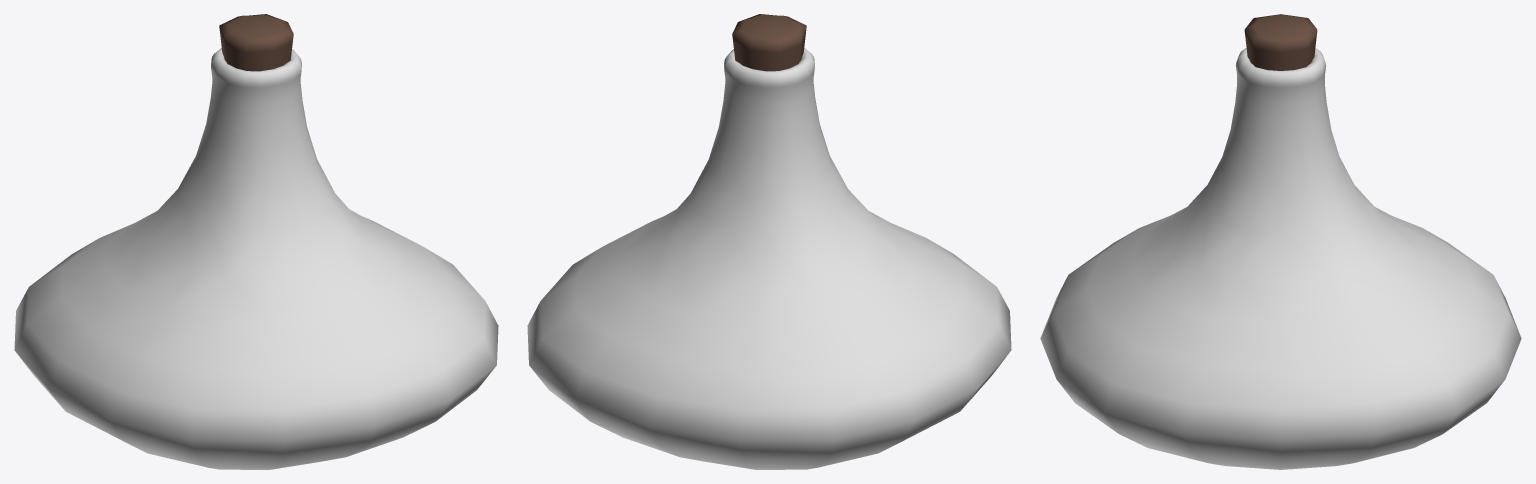
The model's file is potion8_empty.glb.
The picture shows the model from 3 angles, left to right: view 1: azimuth 30°, elevation 25°; view 2: azimuth 150°, elevation 25°; view 3: azimuth 270°, elevation 25°; orthographic projection.
Visible parts, largest first — view 1: Potion8_Empty; view 2: Potion8_Empty; view 3: Potion8_Empty.
Boxes of the visible parts, x1,y1,x2,y2 form: Potion8_Empty: (14,14,498,469); Potion8_Empty: (527,14,1011,469); Potion8_Empty: (1040,14,1521,469).
Size of the model in its own units: 0.7035 by 0.6821 by 0.7035.
